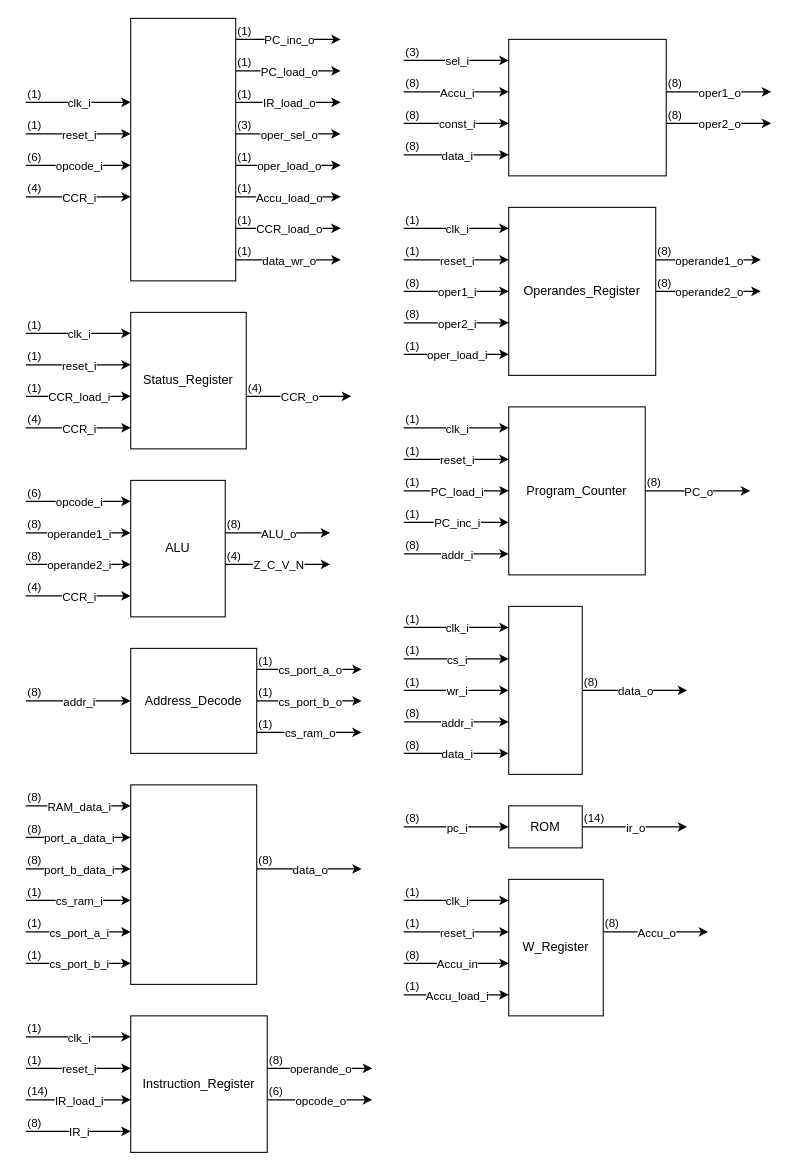
This 798x1171 diagram has some shape labels left out. Each missing label, with the centre of its shape:
Data_Multiplexer: point 193,884
Operandes_Multiplexer: point 587,107
RAM: point 545,689
Sequencer: point 183,149
